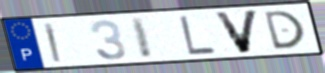3: (89, 18, 127, 61)
D: (261, 9, 307, 51)
I: (128, 15, 156, 60), (42, 21, 63, 64)
L: (177, 14, 219, 56)
V: (212, 8, 262, 55)
